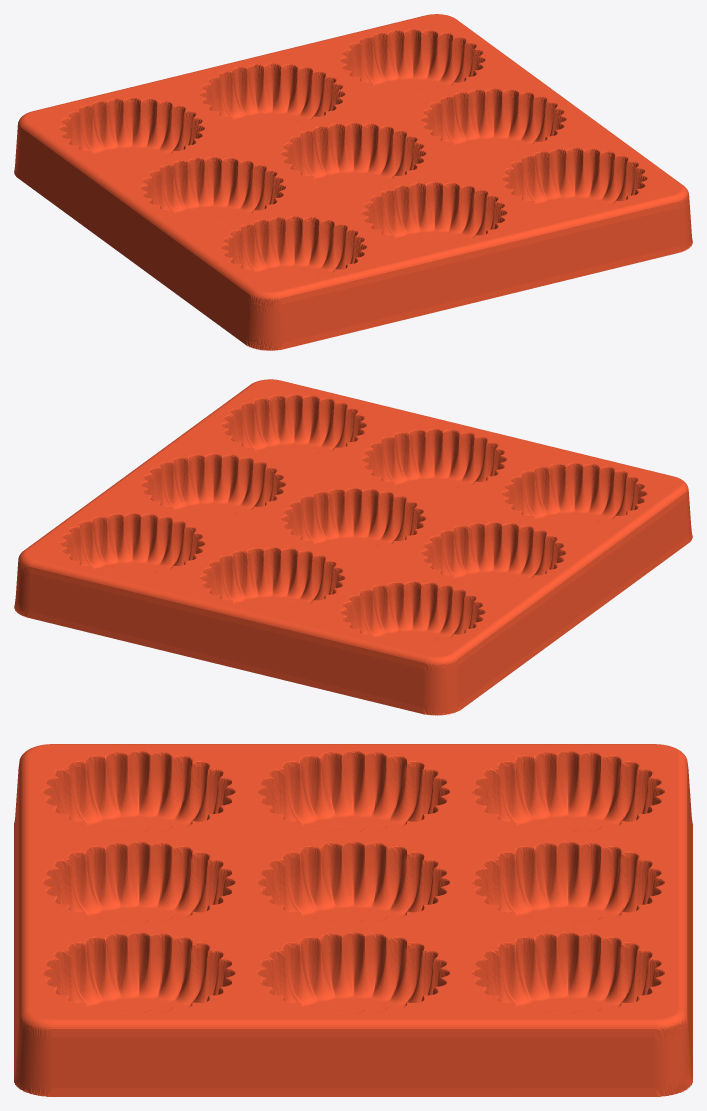
Rendered from mold.glb.
The picture shows the model from 3 angles, top to bottom: view 1: azimuth 30°, elevation 25°; view 2: azimuth 150°, elevation 25°; view 3: azimuth 270°, elevation 25°; orthographic projection. The views are drawn at different scales.
Visible parts, largest first — view 1: geometry_0; view 2: geometry_0; view 3: geometry_0.
Boxes of the visible parts, box(x1,y1,x2,y2) form: geometry_0: box(14, 14, 692, 350); geometry_0: box(14, 379, 692, 715); geometry_0: box(14, 744, 692, 1096).
Bounding box in the file's own units: 0.1595 × 0.0185 × 0.1595.
